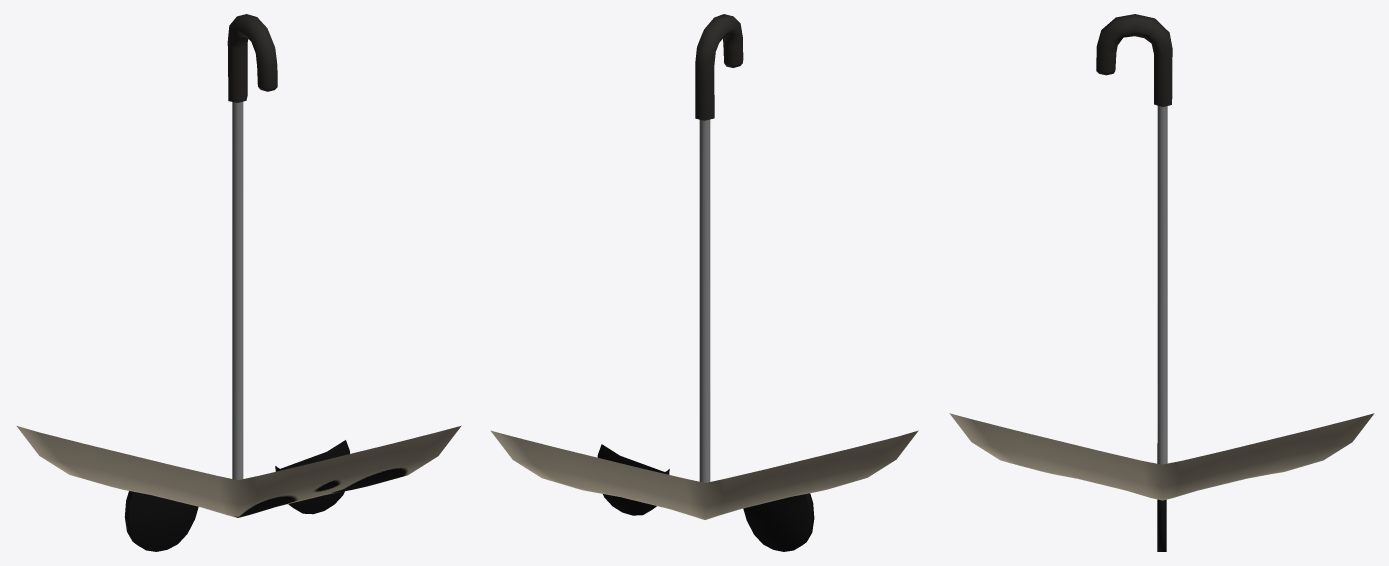
Rendered from UmbrellaPanda0.glb.
The picture shows the model from 3 angles, left to right: view 1: azimuth 30°, elevation 25°; view 2: azimuth 150°, elevation 25°; view 3: azimuth 270°, elevation 25°; orthographic projection. The views are drawn at different scales.
Visible parts, largest first — view 1: Eye__mUmbrella; view 2: Eye__mUmbrella; view 3: Eye__mUmbrella.
Part boxes in pixels (x1,y1,x2,y2): Eye__mUmbrella: [16, 14, 461, 551]; Eye__mUmbrella: [491, 14, 918, 551]; Eye__mUmbrella: [949, 14, 1374, 551].
Size of the model in its own units: 15.33 by 17.24 by 13.39.
Materials: 1 (1 with a texture image).
